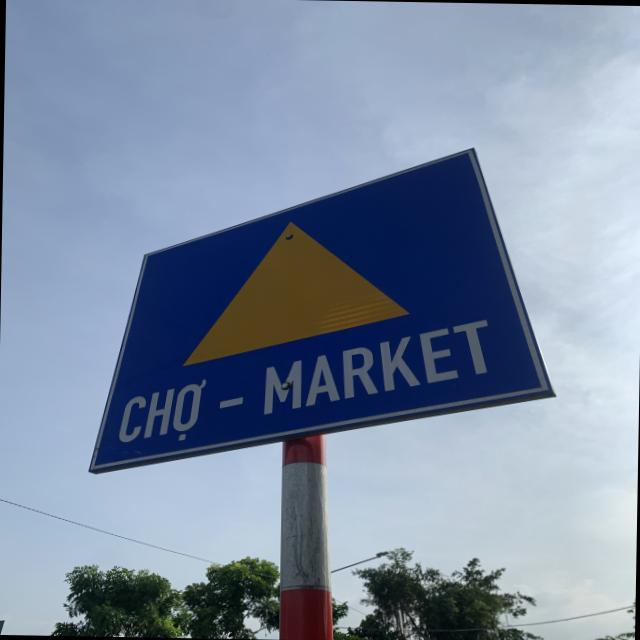Cho_Quay_Xe: (93, 143, 562, 478)
